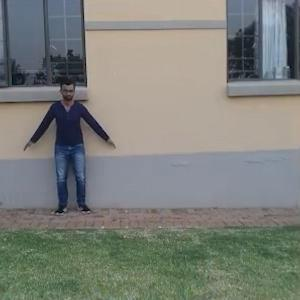land: (24, 81, 119, 226)
